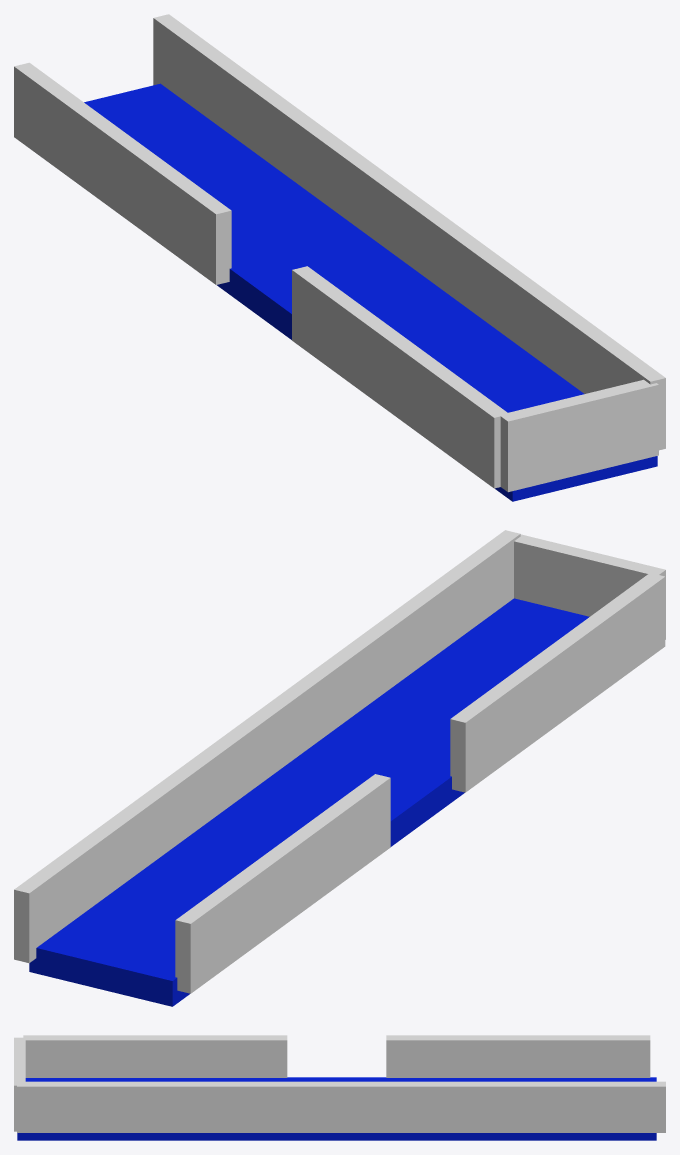
Rendered from MDL_E_LVL_Temple_Tunnel_03.fbx.
The picture shows the model from 3 angles, top to bottom: view 1: azimuth 30°, elevation 25°; view 2: azimuth 150°, elevation 25°; view 3: azimuth 270°, elevation 25°; orthographic projection. The views are drawn at different scales.
Visible parts, largest first — view 1: Plane.016; view 2: Plane.016; view 3: Plane.016.
Part boxes in pixels (x1,y1,x2,y2): Plane.016: [14, 14, 665, 501]; Plane.016: [14, 530, 665, 1006]; Plane.016: [14, 1035, 665, 1140].
Bounding box in the file's own units: 672 × 333 × 3481.
